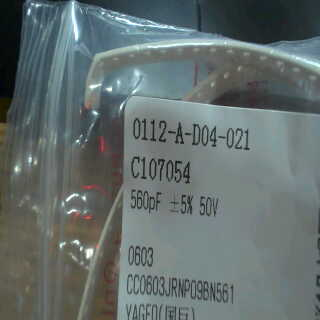560pF: (128, 186, 165, 220)
